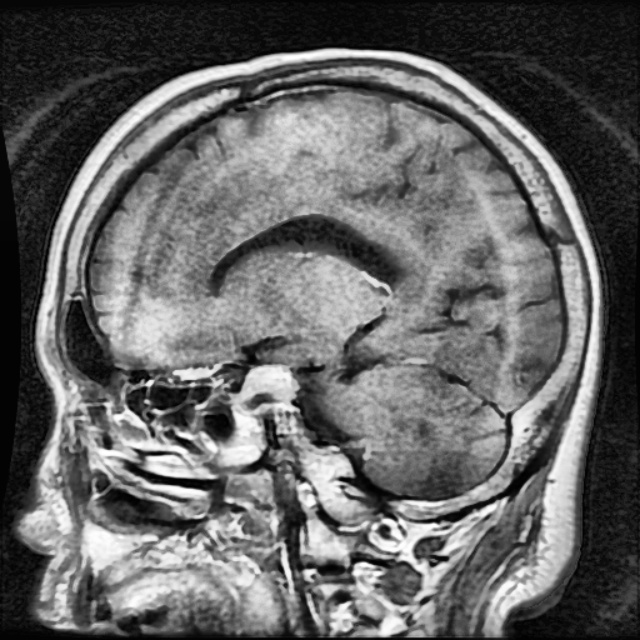Pituitary: (239, 367, 298, 400)
